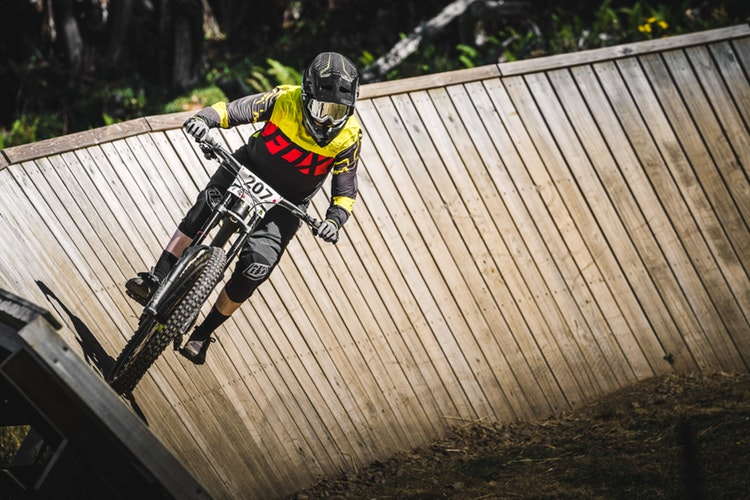helmet: (296, 53, 361, 146)
